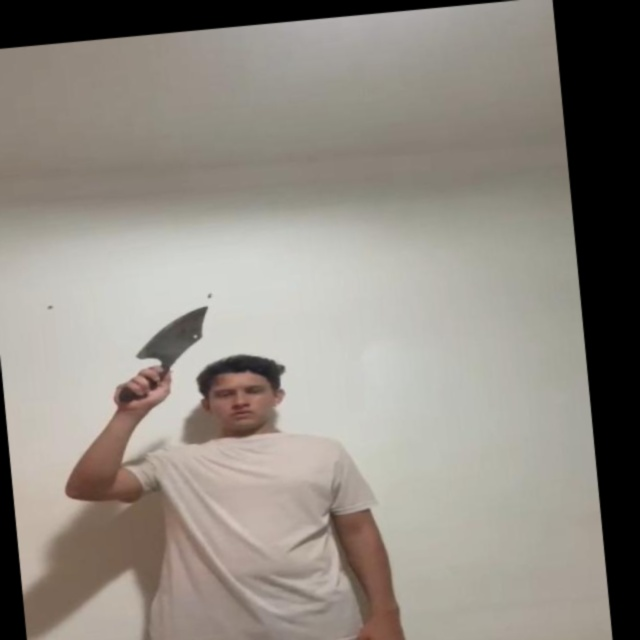Sharp-Object: (136, 300, 214, 364)
